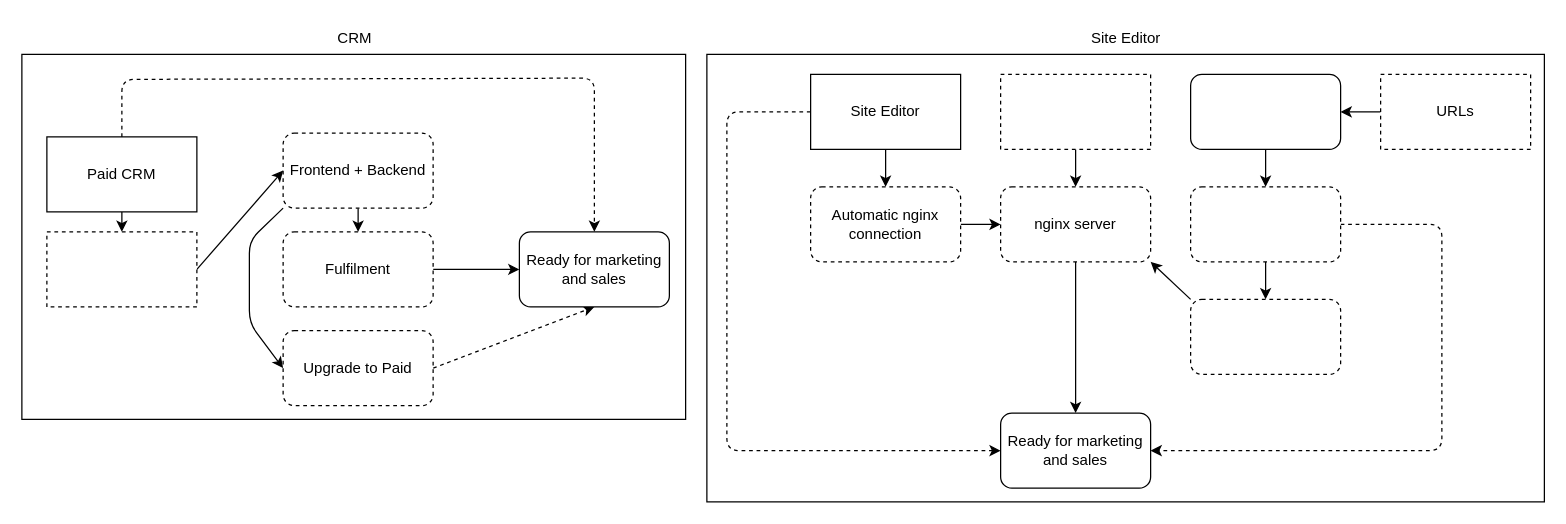
The diagram is 1566 pixels wide and 524 high, and some of its shapes have lost their labels. The centre of each missing label's shape, as x and y in pixels:
Automatic DNS config: the point at 1265,336
DNS: the point at 1265,224
Domain Registry: the point at 1265,111
Free CRM: the point at 121,269
Hosting: the point at 1075,111
